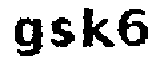6: (116, 6, 152, 49)
g: (11, 14, 45, 60)
k: (80, 4, 116, 51)
s: (47, 15, 77, 50)
